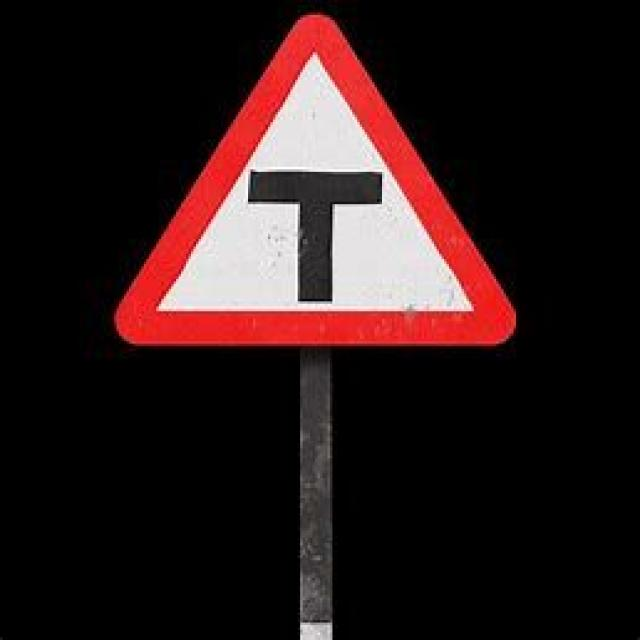T_INTERSECTION: (109, 12, 514, 348)
